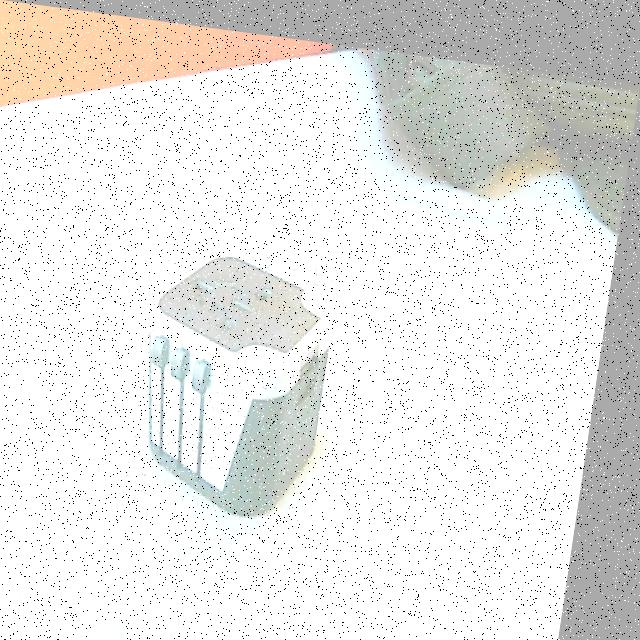adapter: (135, 237, 349, 514)
